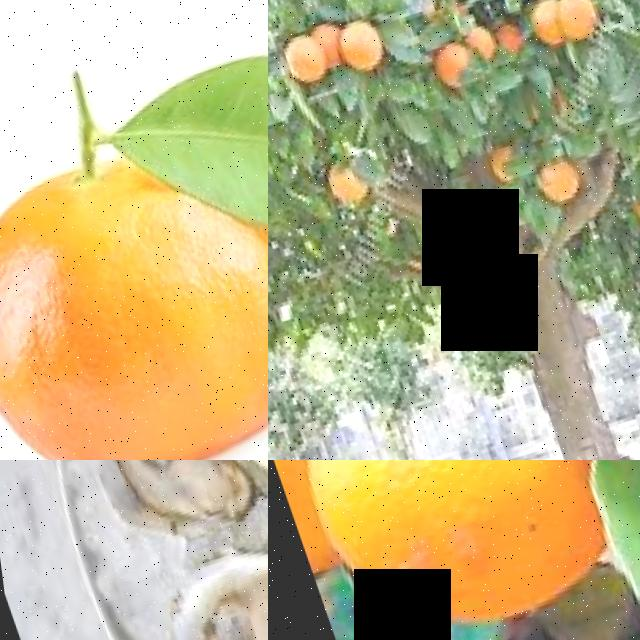orange: (0, 112, 268, 460), (268, 460, 596, 640), (328, 20, 386, 87), (275, 35, 327, 94), (545, 0, 595, 54), (526, 166, 578, 217), (520, 4, 562, 60), (423, 45, 468, 93)
oysters: (62, 460, 247, 563), (123, 532, 268, 640)
